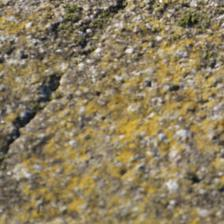Crack: (3, 33, 66, 129)
